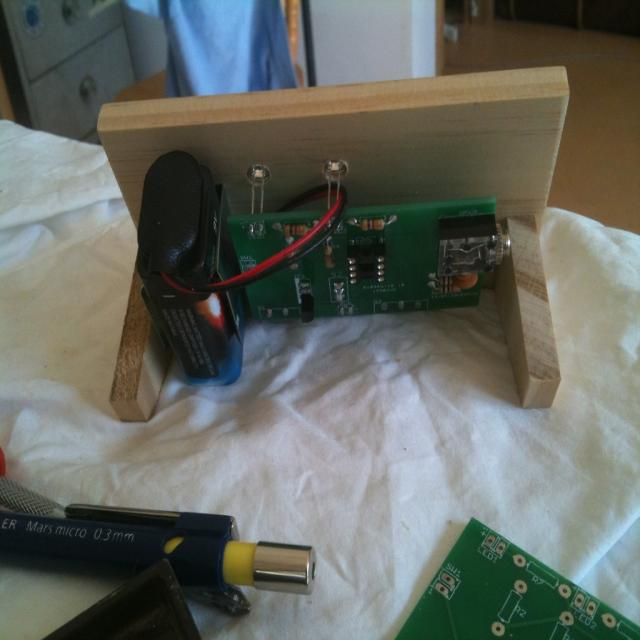pen: (0, 472, 254, 621), (0, 502, 318, 598)
